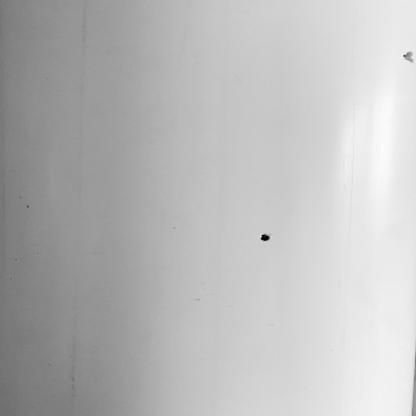kongdong: (251, 228, 277, 250), (398, 42, 416, 68)
